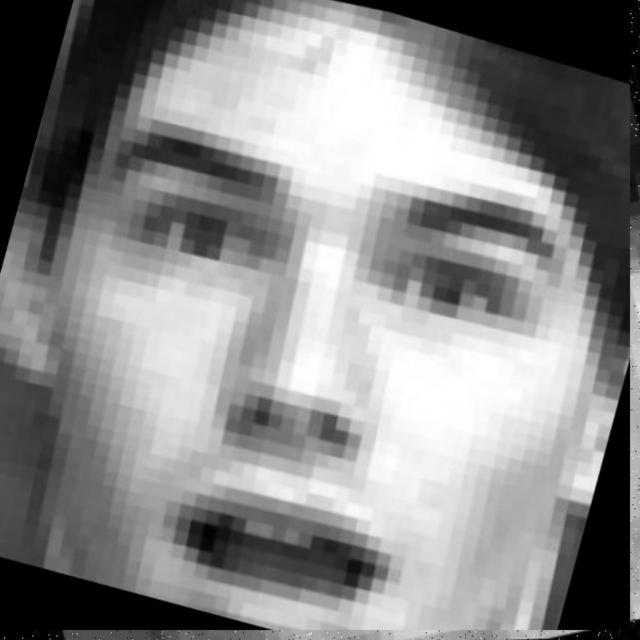Surprised: (16, 50, 617, 640)
